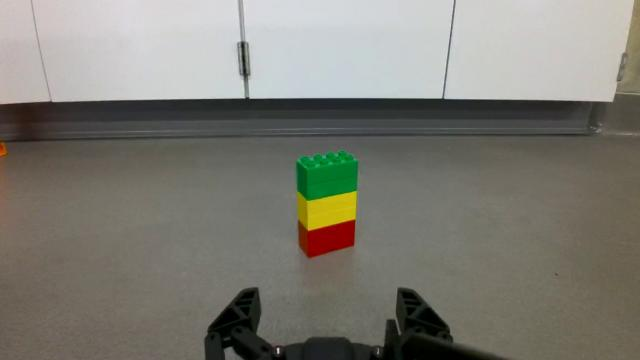lego: (292, 145, 361, 262)
